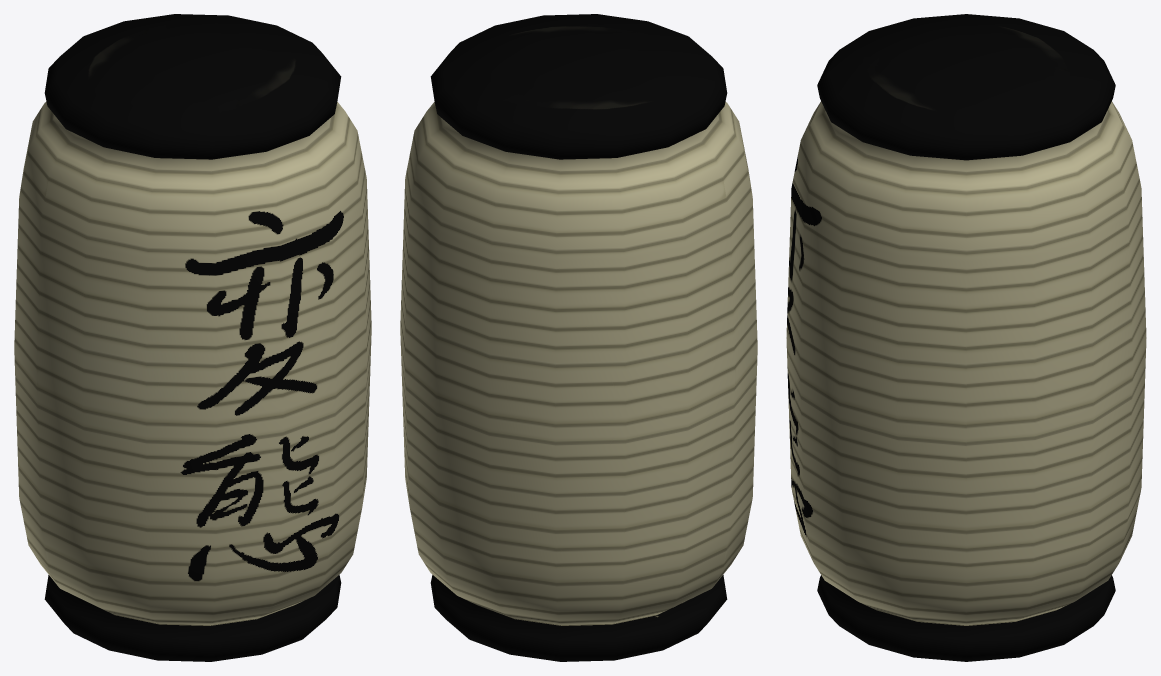
File: JapaneseLamp.dae
3 views of the same model, side by side, from view 1: azimuth 30°, elevation 25°; view 2: azimuth 150°, elevation 25°; view 3: azimuth 270°, elevation 25° (orthographic).
Parts seen in each view (by area): view 1: Cylinder; view 2: Cylinder; view 3: Cylinder.
Boxes of the visible parts, x1,y1,x2,y2 form: Cylinder: [14, 14, 371, 661]; Cylinder: [400, 14, 757, 661]; Cylinder: [786, 14, 1146, 661].
Size of the model in its own units: 2.17 by 2.17 by 3.69.
